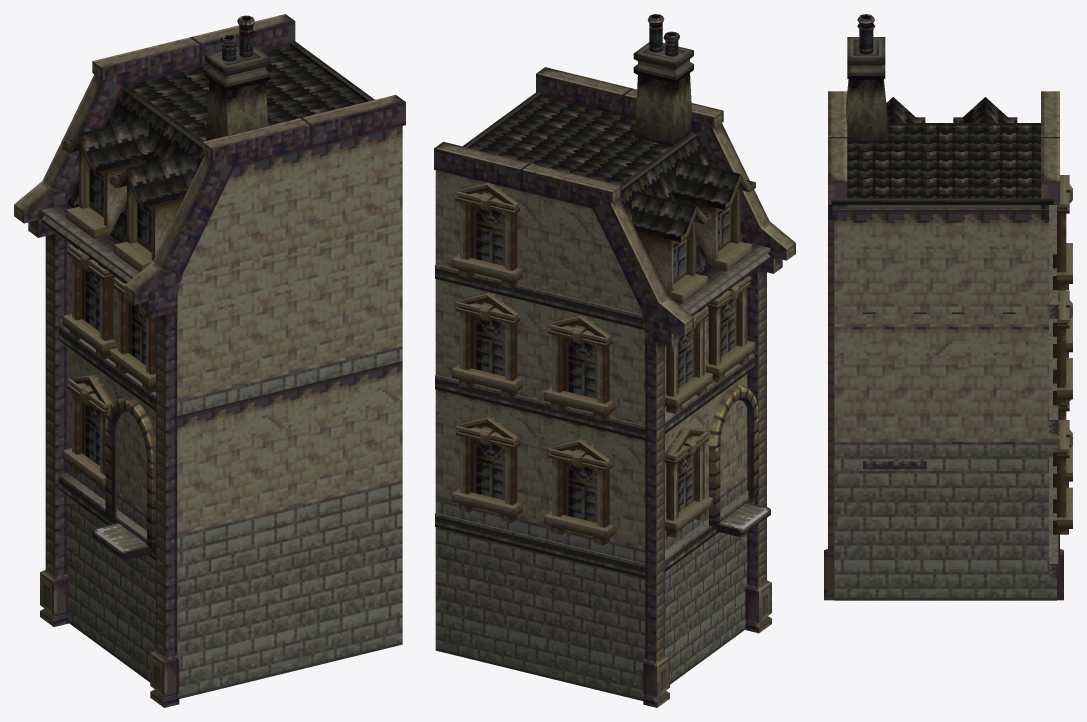
The model's file is EnvBdgMD_City_B_Outdoor_L_H_Arrange_A.FBX.
The picture shows the model from 3 angles, left to right: view 1: azimuth 30°, elevation 25°; view 2: azimuth 150°, elevation 25°; view 3: azimuth 270°, elevation 25°; orthographic projection. The views are drawn at different scales.
Visible parts, largest first — view 1: EnvBdgMD_City_B_Outdoor_L_H_Arrange_A; view 2: EnvBdgMD_City_B_Outdoor_L_H_Arrange_A; view 3: EnvBdgMD_City_B_Outdoor_L_H_Arrange_A.
Boxes of the visible parts, box(x1,y1,x2,y2) form: EnvBdgMD_City_B_Outdoor_L_H_Arrange_A: box(14, 14, 405, 707); EnvBdgMD_City_B_Outdoor_L_H_Arrange_A: box(434, 14, 795, 707); EnvBdgMD_City_B_Outdoor_L_H_Arrange_A: box(824, 14, 1072, 600).
Size of the model in its own units: 476 by 1085 by 391.
Materials: 1 (1 with a texture image).
